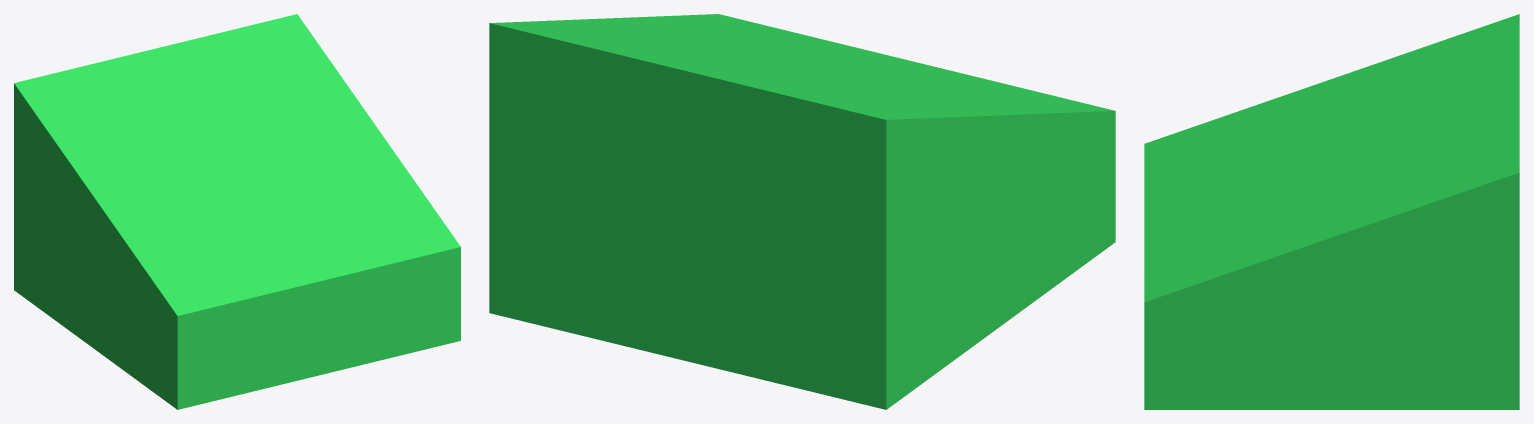
The model's file is Controller_button_green.fbx.
3 renders of one model, left to right at view 1: azimuth 30°, elevation 25°; view 2: azimuth 150°, elevation 25°; view 3: azimuth 270°, elevation 25°, orthographic. The views are drawn at different scales.
Parts seen in each view (by area): view 1: pCube4; view 2: pCube4; view 3: pCube4.
Part boxes in pixels (x1,y1,x2,y2): pCube4: [14, 14, 460, 409]; pCube4: [489, 14, 1115, 409]; pCube4: [1144, 14, 1519, 409].
Size of the model in its own units: 14 by 9.78 by 14.
